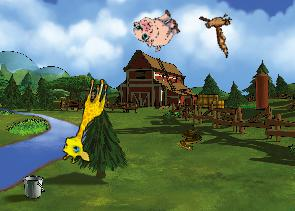eagle: (189, 1, 248, 58)
giraffe: (59, 73, 110, 167)
pig: (129, 2, 184, 56)
